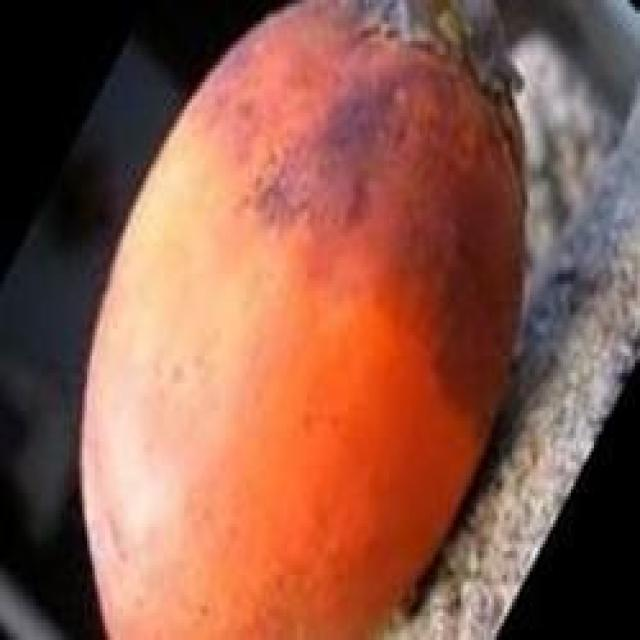good: (77, 0, 540, 637)
